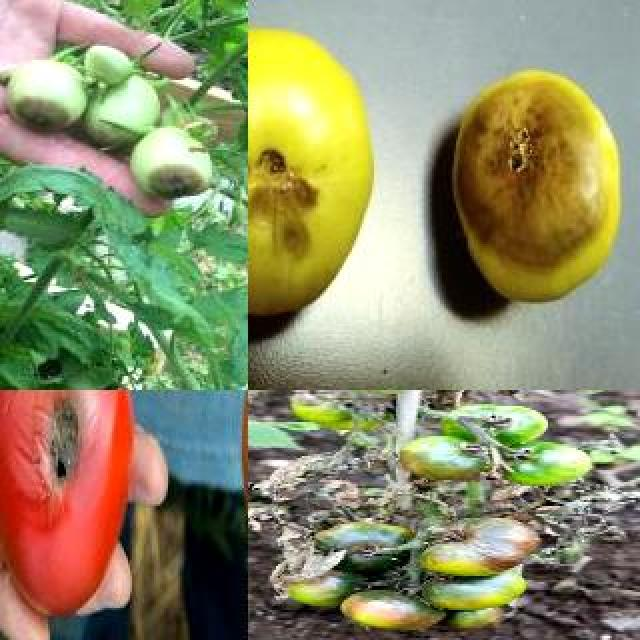Rotten_Tomato: (446, 64, 626, 310), (0, 390, 140, 624), (398, 402, 604, 494), (410, 522, 552, 576), (0, 56, 94, 136), (126, 124, 222, 202), (340, 586, 448, 632)
